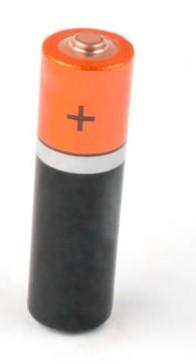Battery: (28, 28, 134, 332)
